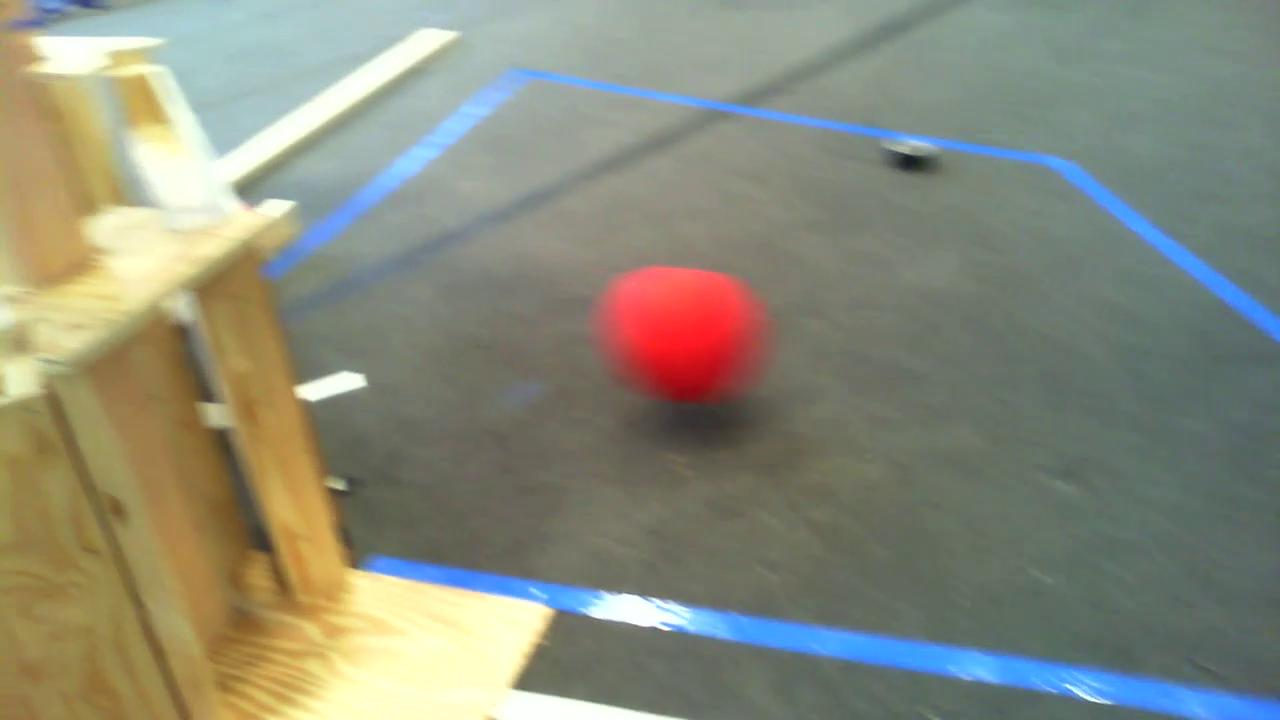Red_Ball: (590, 254, 779, 410)
